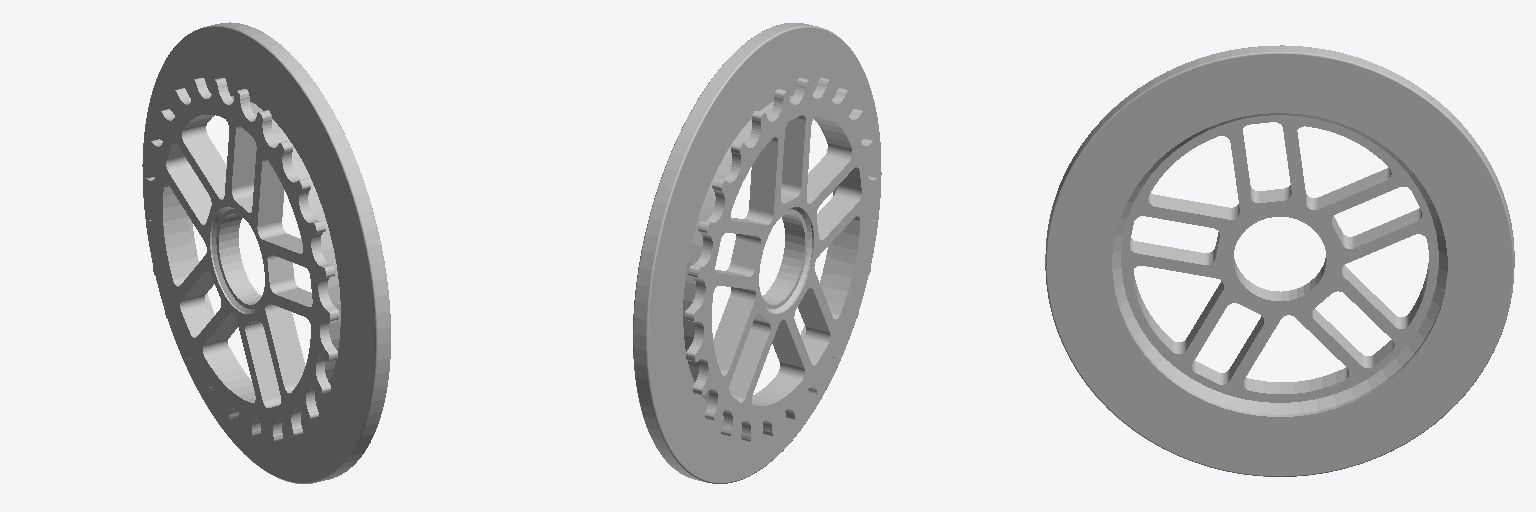
Rendered from SprocketGuard.obj.
3 views of the same model, side by side, from view 1: azimuth 30°, elevation 25°; view 2: azimuth 150°, elevation 25°; view 3: azimuth 270°, elevation 25° (orthographic).
Parts seen in each view (by area): view 1: Guarded; view 2: Guarded; view 3: Guarded.
Boxes of the visible parts, <box> form: Guarded: <box>142,22,390,483</box>; Guarded: <box>633,23,881,483</box>; Guarded: <box>1045,45,1514,476</box>.
Size of the model in its own units: 0.0113 by 0.124 by 0.1239.